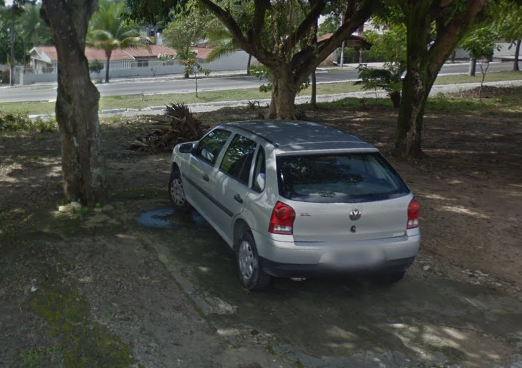car: (162, 112, 429, 298)
